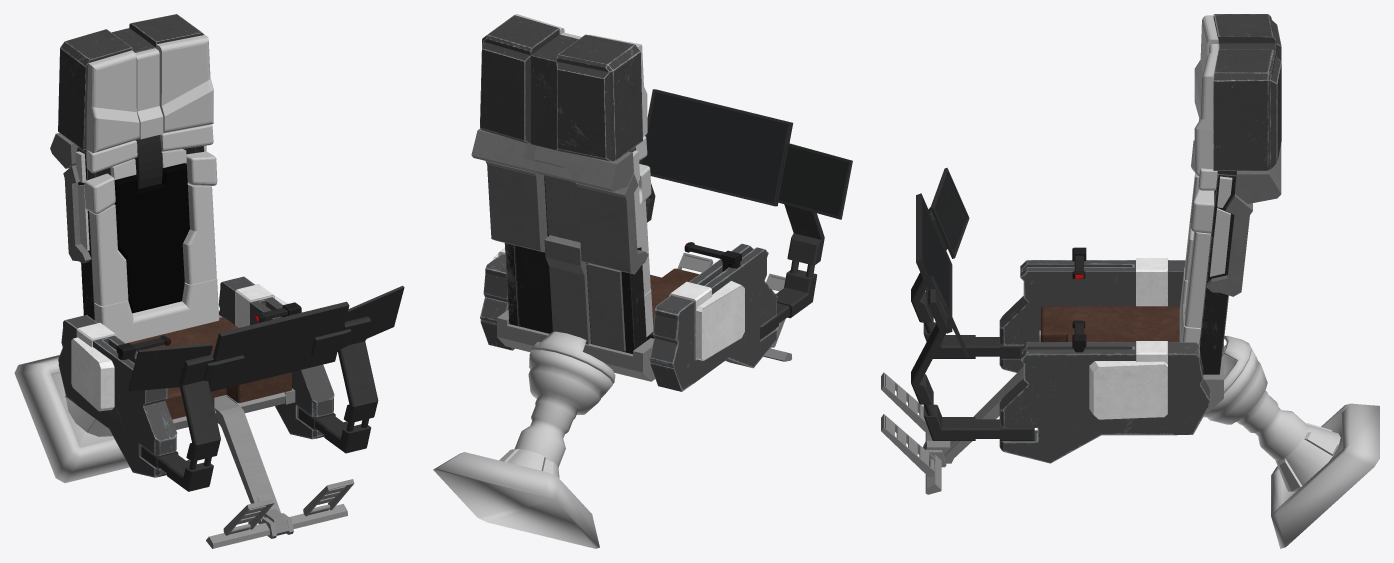
File: Cockpit_Seat.fbx
The picture shows the model from 3 angles, left to right: view 1: azimuth 30°, elevation 25°; view 2: azimuth 150°, elevation 25°; view 3: azimuth 270°, elevation 25°; orthographic projection. The views are drawn at different scales.
Parts seen in each view (by area): view 1: Cube.004, Handle.001, Cube.005, MonitorL.001, MonitorL.002, MonitorMain, Cockpit_seat_base, Cube, Cube.007, Cube.003, Cube.012, Cube.009 (+9 smaller); view 2: Cube.007, MonitorMain, Handle.001, Plane, Cockpit_seat_base, MonitorL.001, Cylinder, Cube.002, Plane.001, Cube.008, Cube.012, Cube.011 (+9 smaller); view 3: Handle.001, Cube.007, Cockpit_seat_base, Cube.004, Cylinder, Cube.003, Cube.012, MonitorL.001, MonitorL.002, Cube.002, MonitorMain, Cube.013 (+7 smaller).
Part boxes in pixels (<box>): Cube.004: <box>84,35,219,343</box>; Handle.001: <box>58,276,334,477</box>; Cube.005: <box>114,163,189,313</box>; MonitorL.001: <box>128,343,244,491</box>; MonitorL.002: <box>298,285,404,453</box>; MonitorMain: <box>208,301,349,391</box>; Cockpit_seat_base: <box>14,355,129,482</box>; Cube: <box>172,392,347,548</box>; Cube.007: <box>58,14,204,150</box>; Cube.003: <box>127,317,291,419</box>; Cube.012: <box>71,296,302,411</box>; Cube.009: <box>135,48,163,139</box>; Cube.007: <box>480,15,642,161</box>; MonitorMain: <box>639,89,793,206</box>; Handle.001: <box>480,243,777,391</box>; Plane: <box>485,161,648,274</box>; Cockpit_seat_base: <box>433,452,599,548</box>; MonitorL.001: <box>760,143,852,339</box>; Cylinder: <box>507,350,612,477</box>; Cube.002: <box>504,147,646,353</box>; Plane.001: <box>471,129,633,191</box>; Cube.008: <box>544,235,590,344</box>; Cube.012: <box>493,247,744,360</box>; Cube.011: <box>586,263,625,351</box>; Handle.001: <box>999,260,1210,463</box>; Cube.007: <box>1213,14,1281,170</box>; Cockpit_seat_base: <box>1271,403,1379,548</box>; Cube.004: <box>1179,15,1218,344</box>; Cylinder: <box>1203,346,1340,491</box>; Cube.003: <box>1041,306,1179,342</box>; Cube.012: <box>1089,361,1167,419</box>; MonitorL.001: <box>911,167,1022,358</box>; MonitorL.002: <box>911,276,1034,440</box>; Cube.002: <box>1199,171,1236,374</box>; MonitorMain: <box>916,193,952,333</box>; Cube.013: <box>1136,258,1167,364</box>.
Size of the model in its own units: 115 by 186 by 175.
